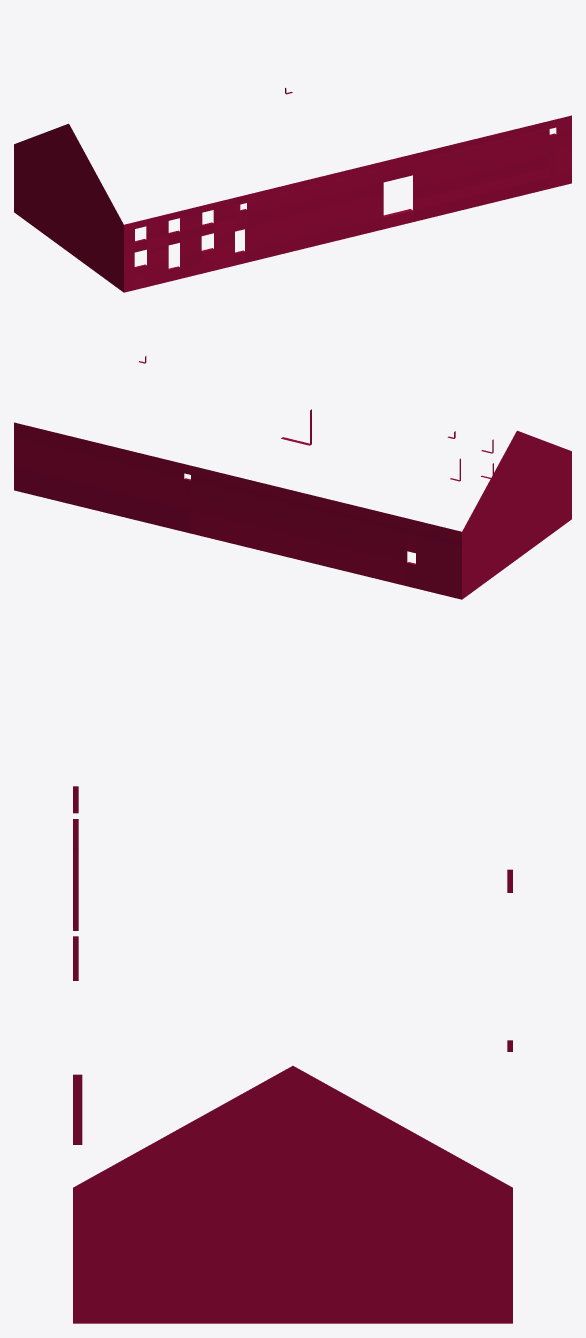
The model's file is SM_Bld_136_Masonry.glb.
The picture shows the model from 3 angles, top to bottom: view 1: azimuth 30°, elevation 25°; view 2: azimuth 150°, elevation 25°; view 3: azimuth 270°, elevation 25°; orthographic projection. The views are drawn at different scales.
Visible parts, largest first — view 1: SM_Bld_136_Masonry; view 2: SM_Bld_136_Masonry; view 3: SM_Bld_136_Masonry.
Part boxes in pixels (x1=…): SM_Bld_136_Masonry: x1=14, y1=88, x2=571, y2=292; SM_Bld_136_Masonry: x1=14, y1=356, x2=571, y2=599; SM_Bld_136_Masonry: x1=73, y1=786, x2=512, y2=1323.
Size of the model in its own units: 40 by 11 by 17.
